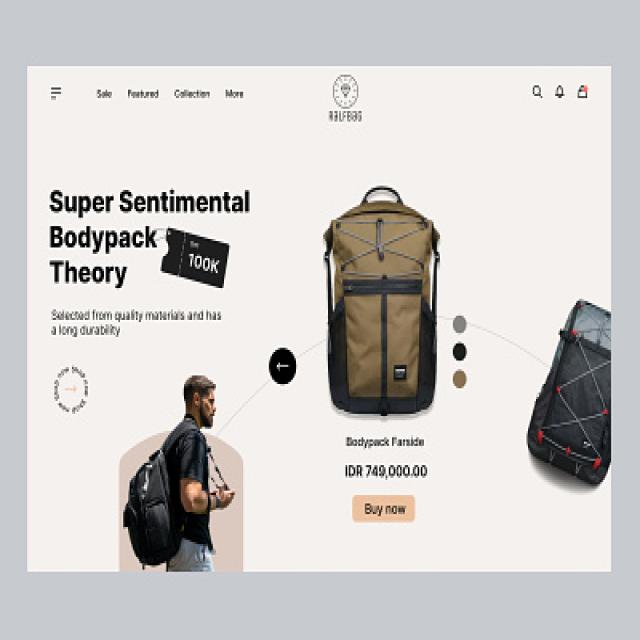backpack: (323, 184, 441, 415), (123, 419, 209, 566)
